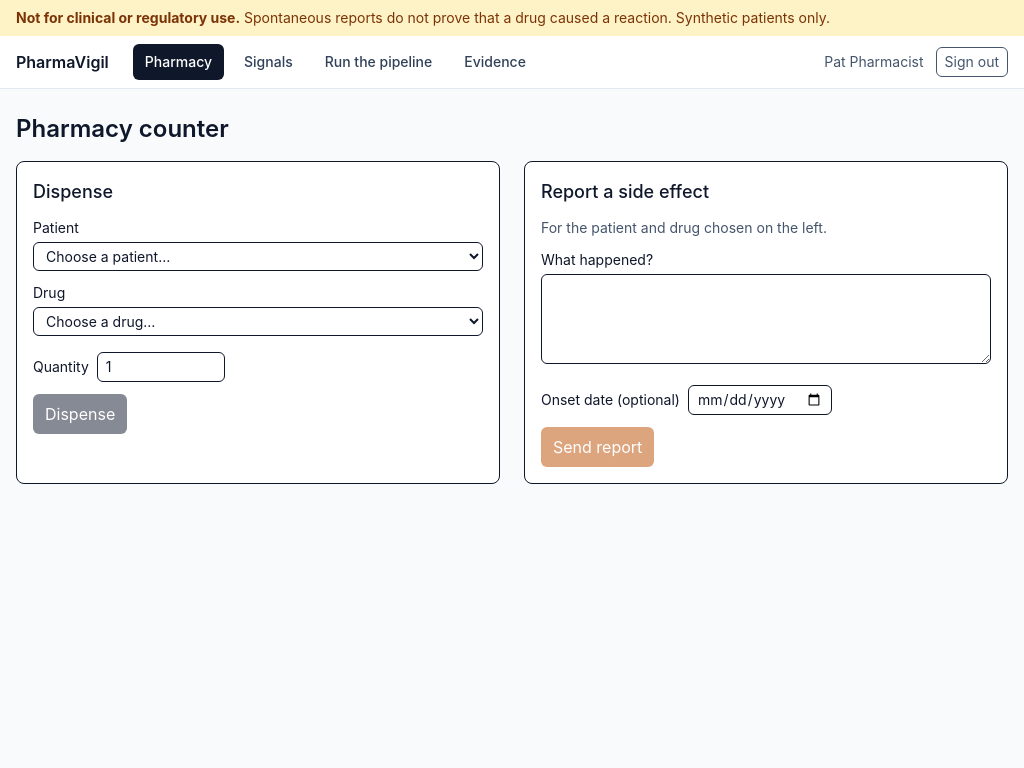
Test: PharmacyPage › still completes the dispense when signals are unavailable
Select "Example, Ana (1970-02-03)" in the dropdown labelled "Patient": (258, 256) top-left (33, 242), bottom-right (483, 271)
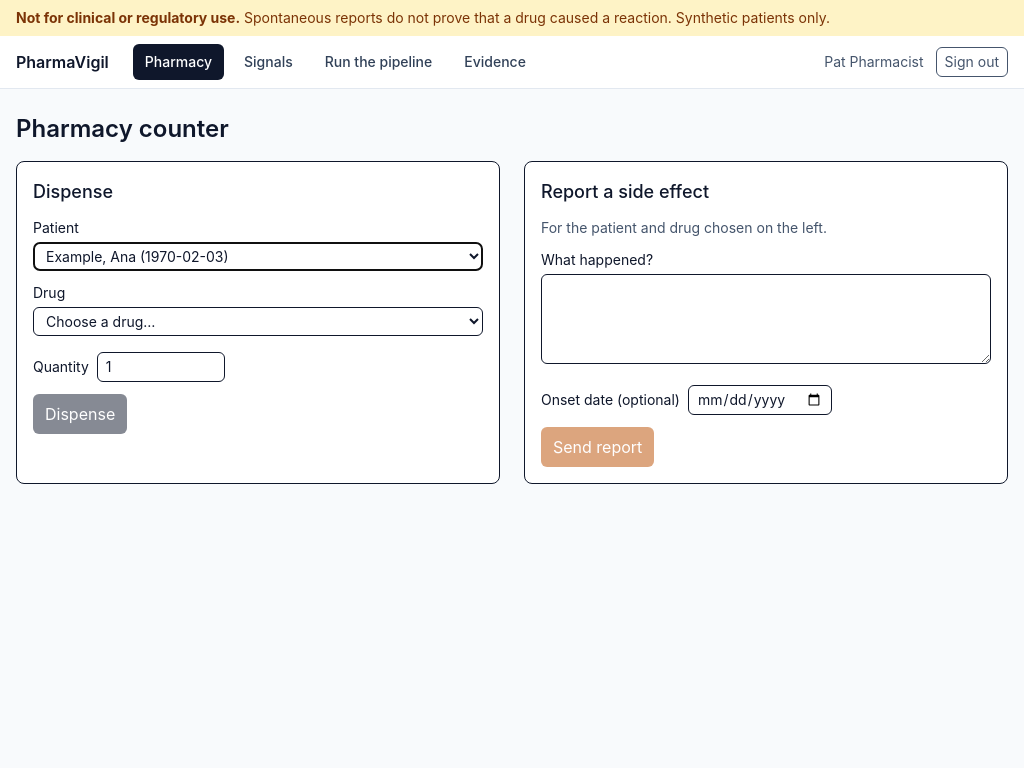
Select "Atorvastatin 20 mg — 40 in date" in the dropdown labelled "Drug": (258, 322) top-left (33, 307), bottom-right (483, 336)
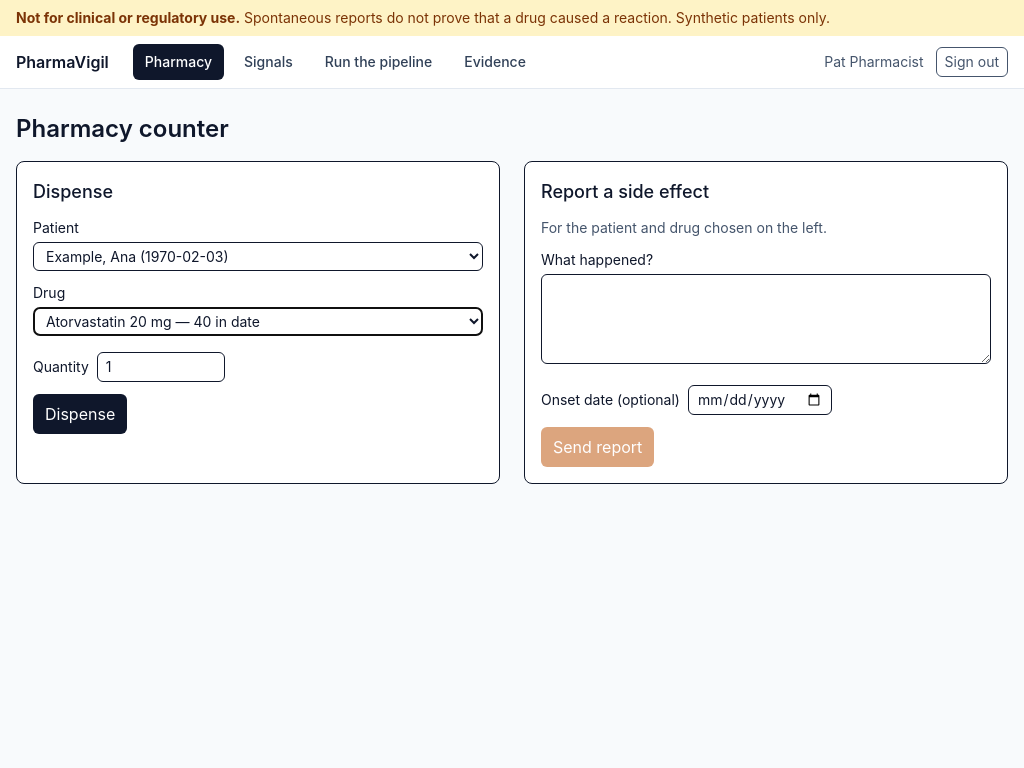
Click the button "Dispense": (80, 414) top-left (33, 394), bottom-right (127, 434)
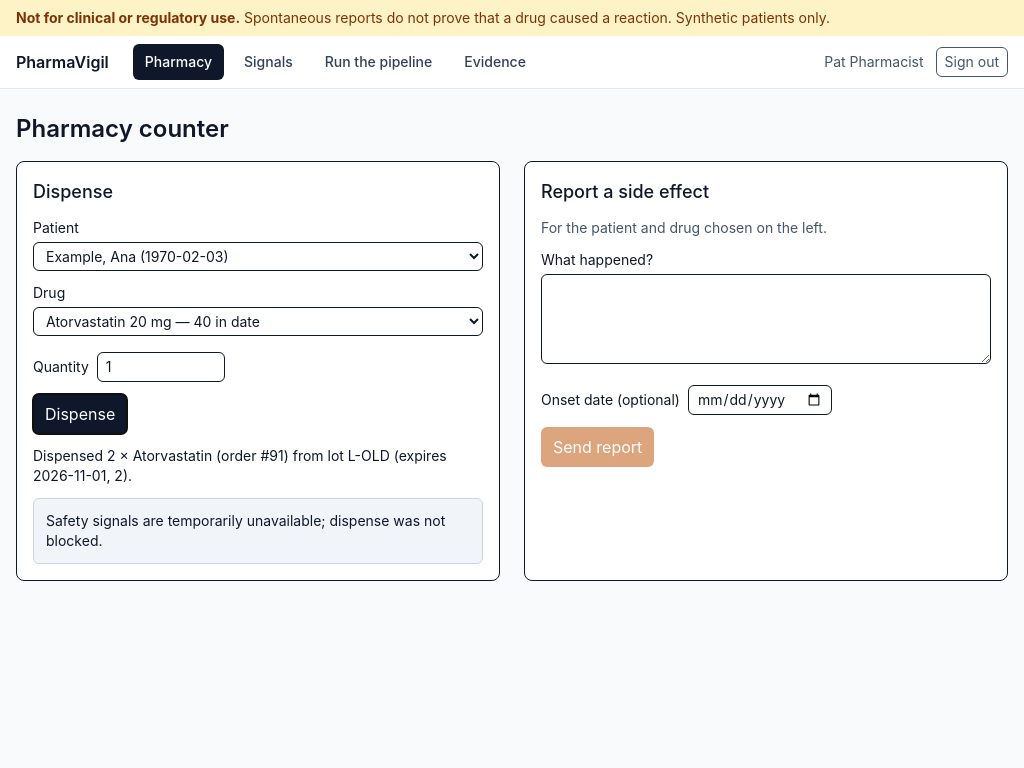
expect the text "dispense was not blocked" is shown: met, box top-left (46, 512), bottom-right (445, 549)
